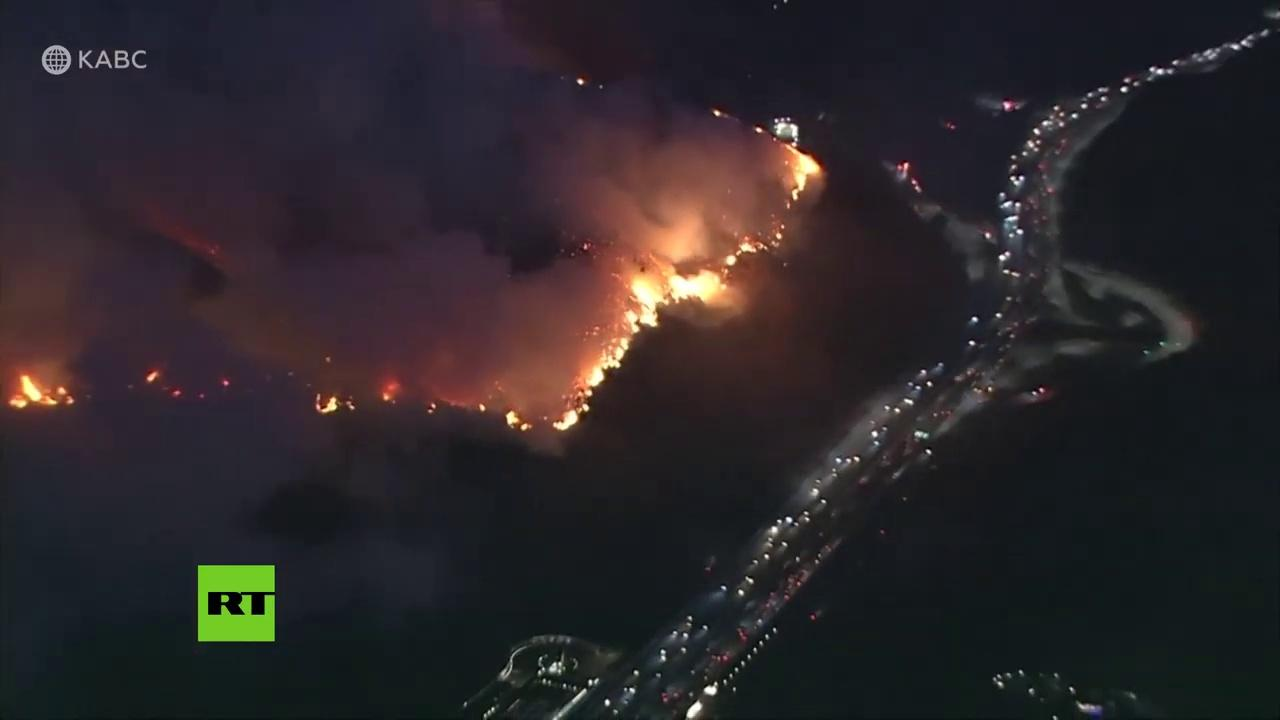Fire: (552, 287, 666, 432), (671, 243, 759, 301), (8, 372, 75, 411), (786, 144, 818, 205), (502, 409, 533, 432), (313, 393, 340, 415), (145, 369, 161, 384)
